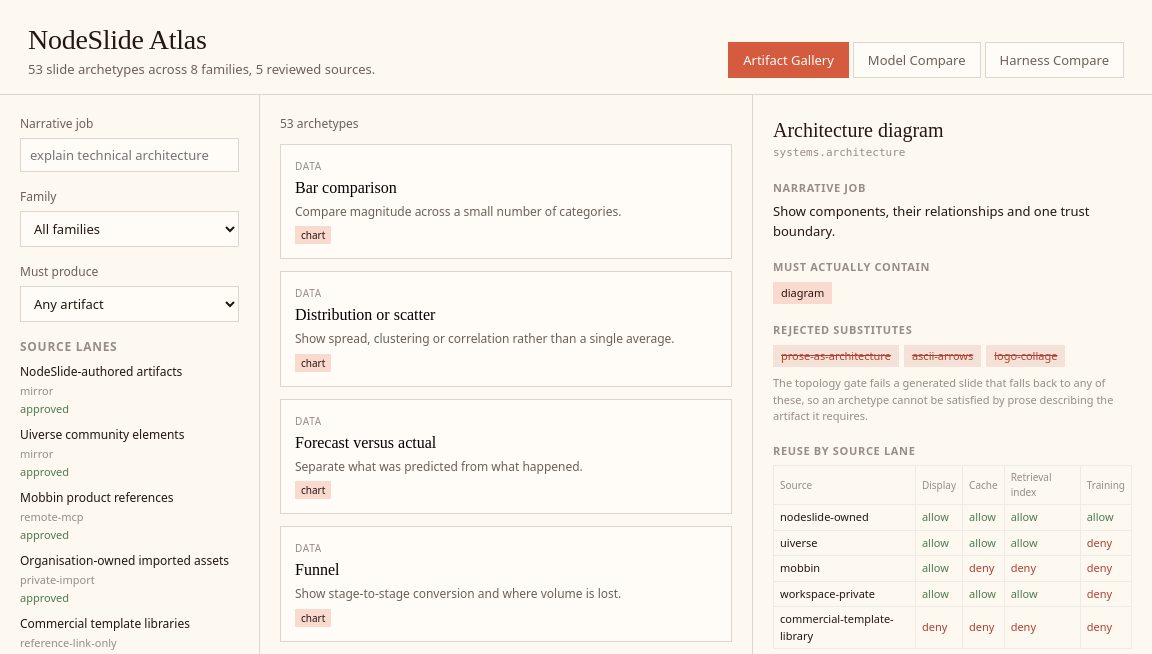
Atlas Gallery: a builder looking for the right slide › says so plainly when no archetype matches
In the search field with test id "atlas-search": (130, 155) [20, 138, 239, 172], type "zzzznothing"
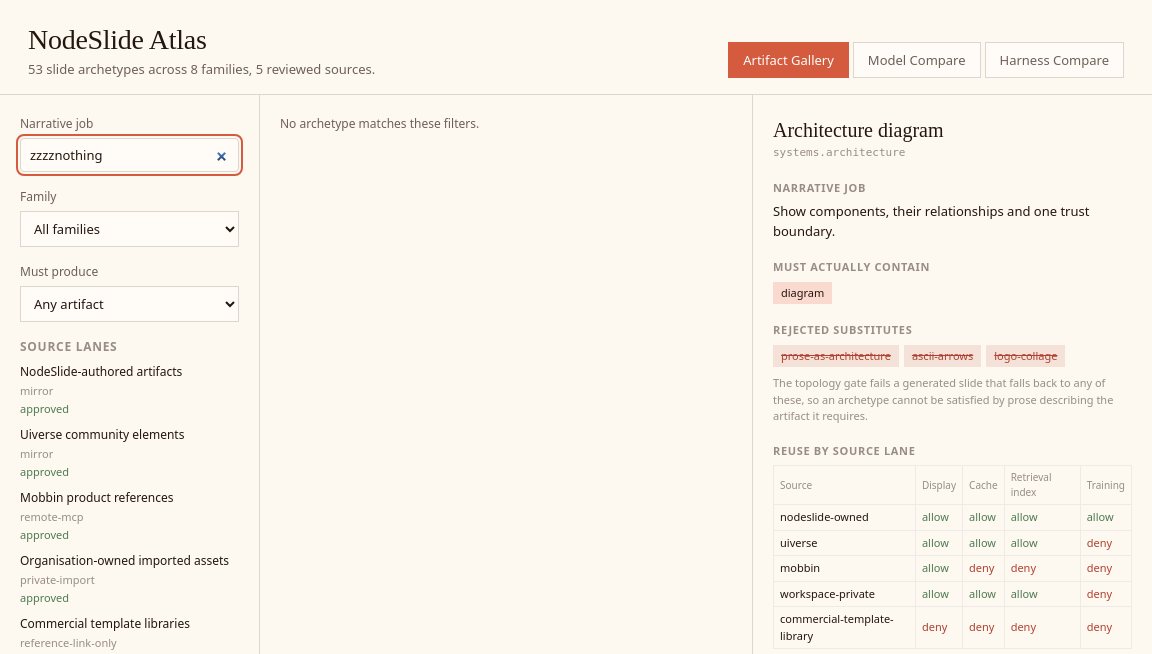
Now the text with test id "atlas-count" shows "No archetype matches", box [280, 115, 479, 132]
